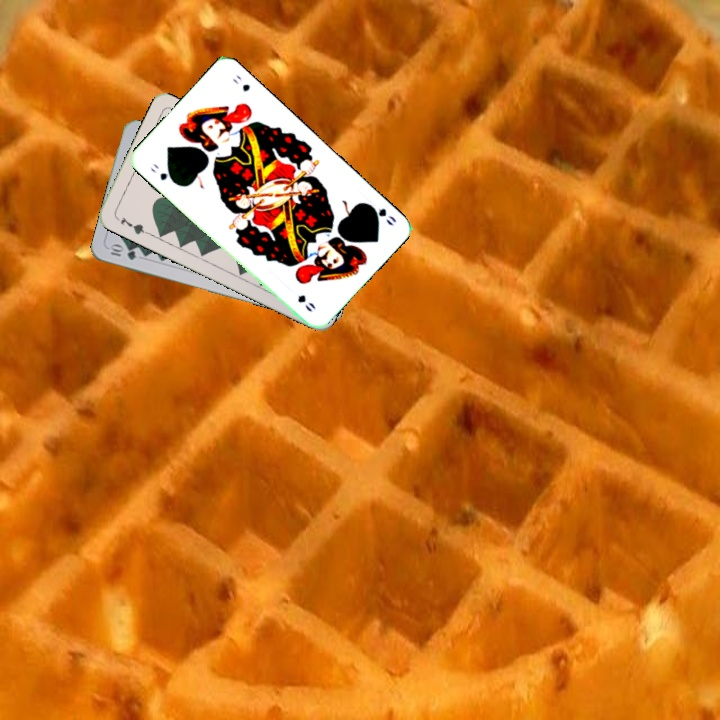G10: (106, 241, 139, 263)
G7: (112, 213, 150, 237)
GO: (363, 199, 399, 229), (146, 159, 178, 186)
